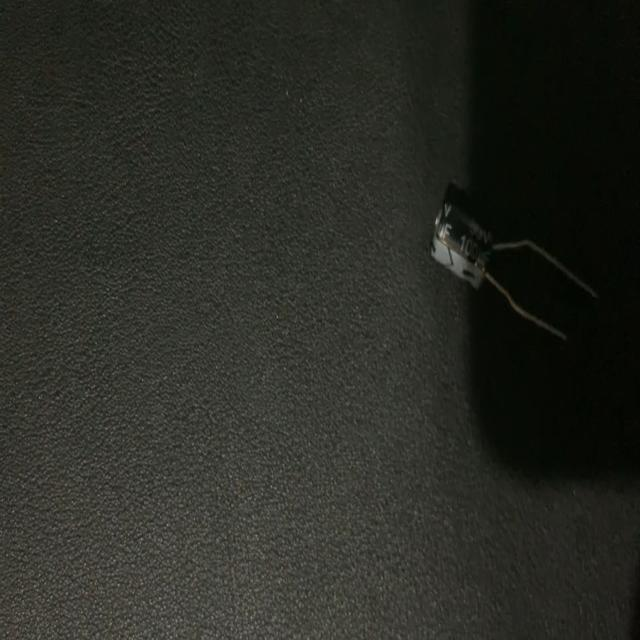capacitor: (428, 187, 601, 349)
